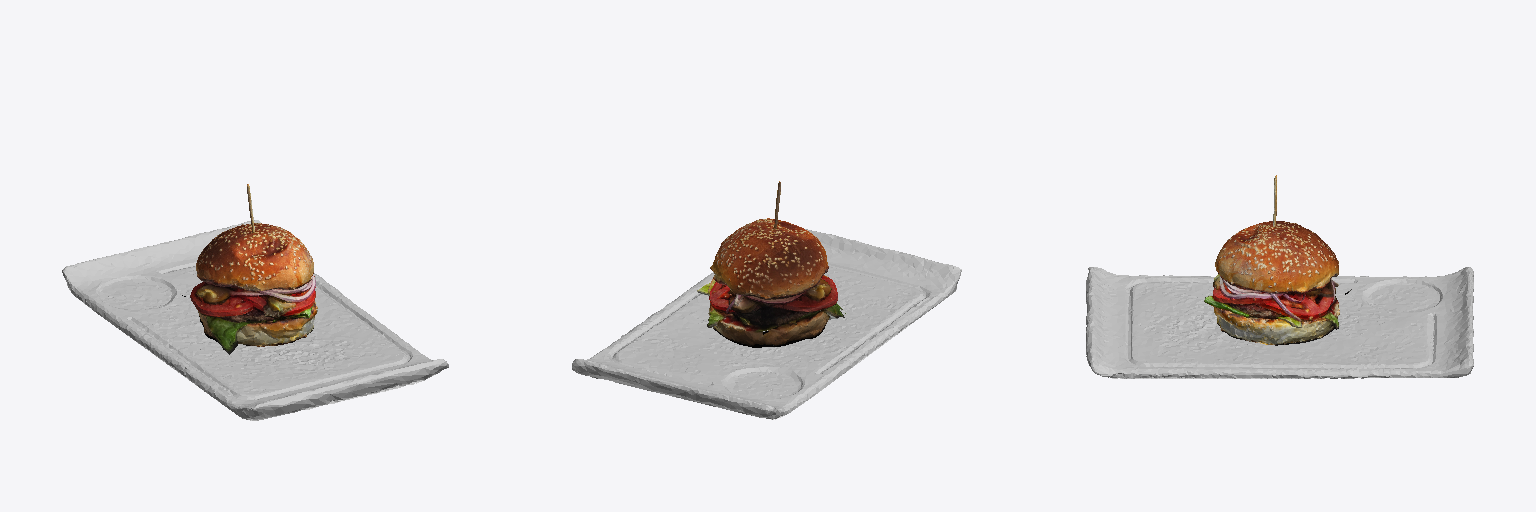
The picture shows the model from 3 angles: view 1: azimuth 30°, elevation 25°; view 2: azimuth 150°, elevation 25°; view 3: azimuth 270°, elevation 25°; orthographic projection.
Visible parts, largest first — view 1: mmGroup0; view 2: mmGroup0; view 3: mmGroup0.
Part boxes in pixels (x1,y1,x2,y2): mmGroup0: (62, 184, 448, 420); mmGroup0: (572, 181, 961, 419); mmGroup0: (1086, 175, 1473, 378).
Size of the model in its own units: 0.1826 by 0.1286 by 0.3002.
2 materials, 1 textured.